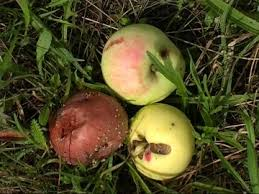damaged_apple: (98, 28, 184, 105), (49, 89, 129, 163), (130, 102, 202, 175)
